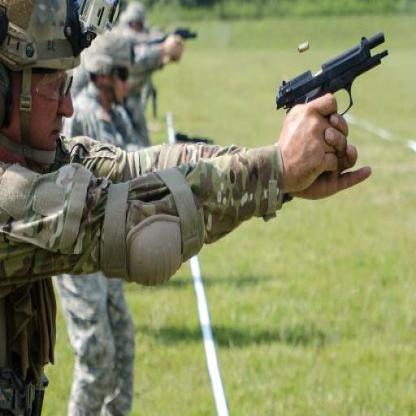gun: (272, 26, 387, 174), (174, 26, 197, 40)
